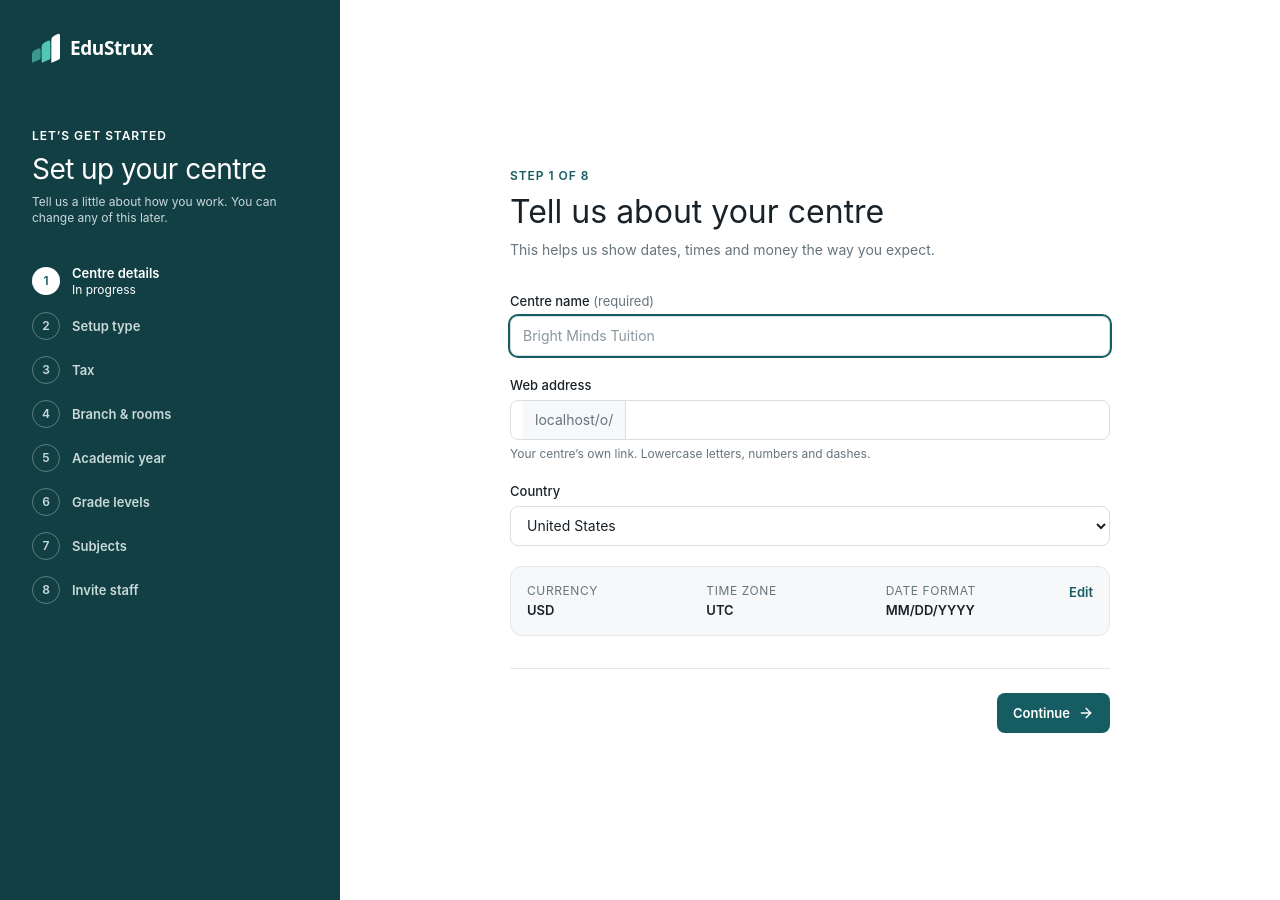
Test: setting up a centre › needs a name before the second step
The image size is (1280, 900).
Type "A" into the field labelled "Centre name (required)" at (810, 336), box top-left (510, 316), bottom-right (1110, 356)
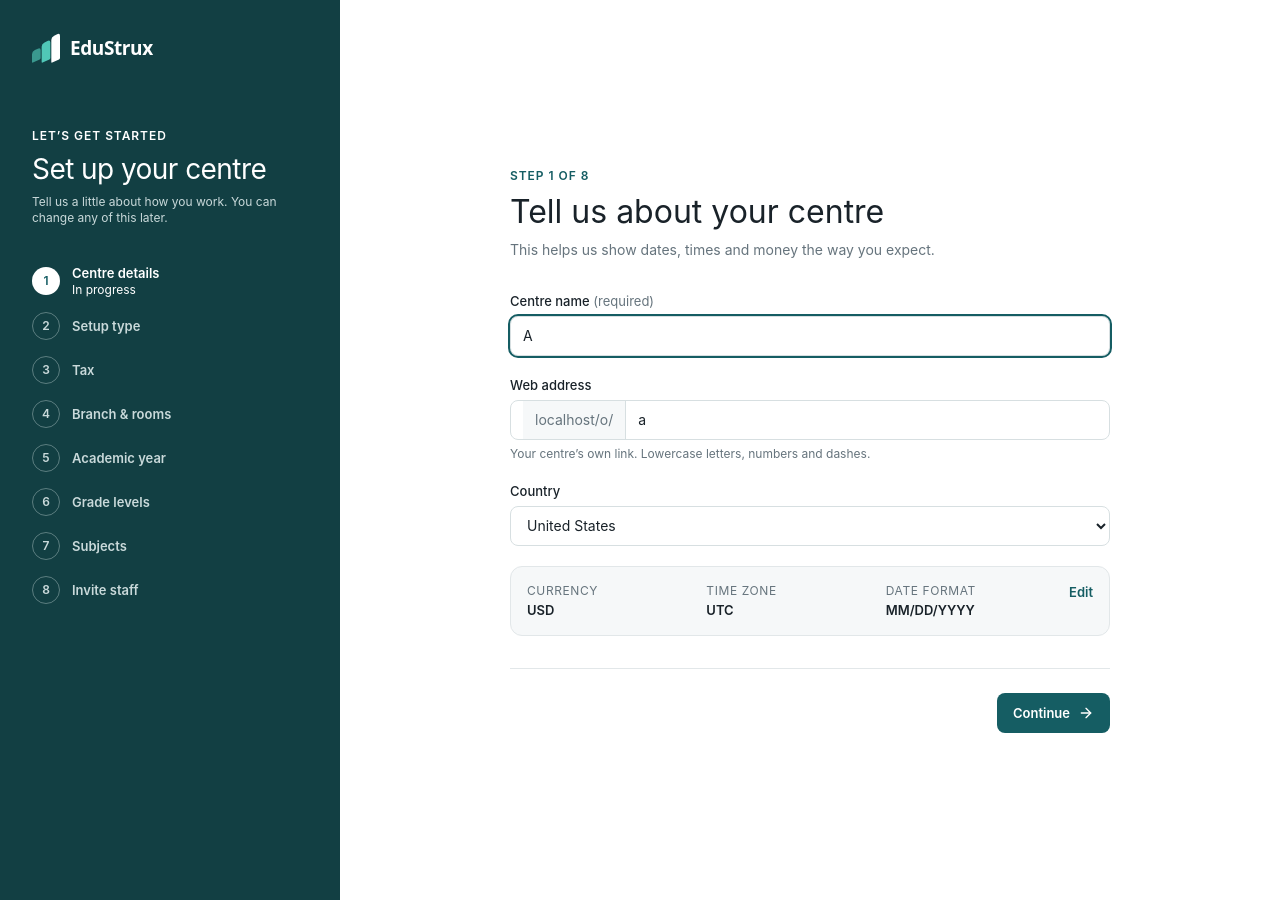
Click the button "Continue" at (1054, 712), box top-left (997, 692), bottom-right (1110, 732)
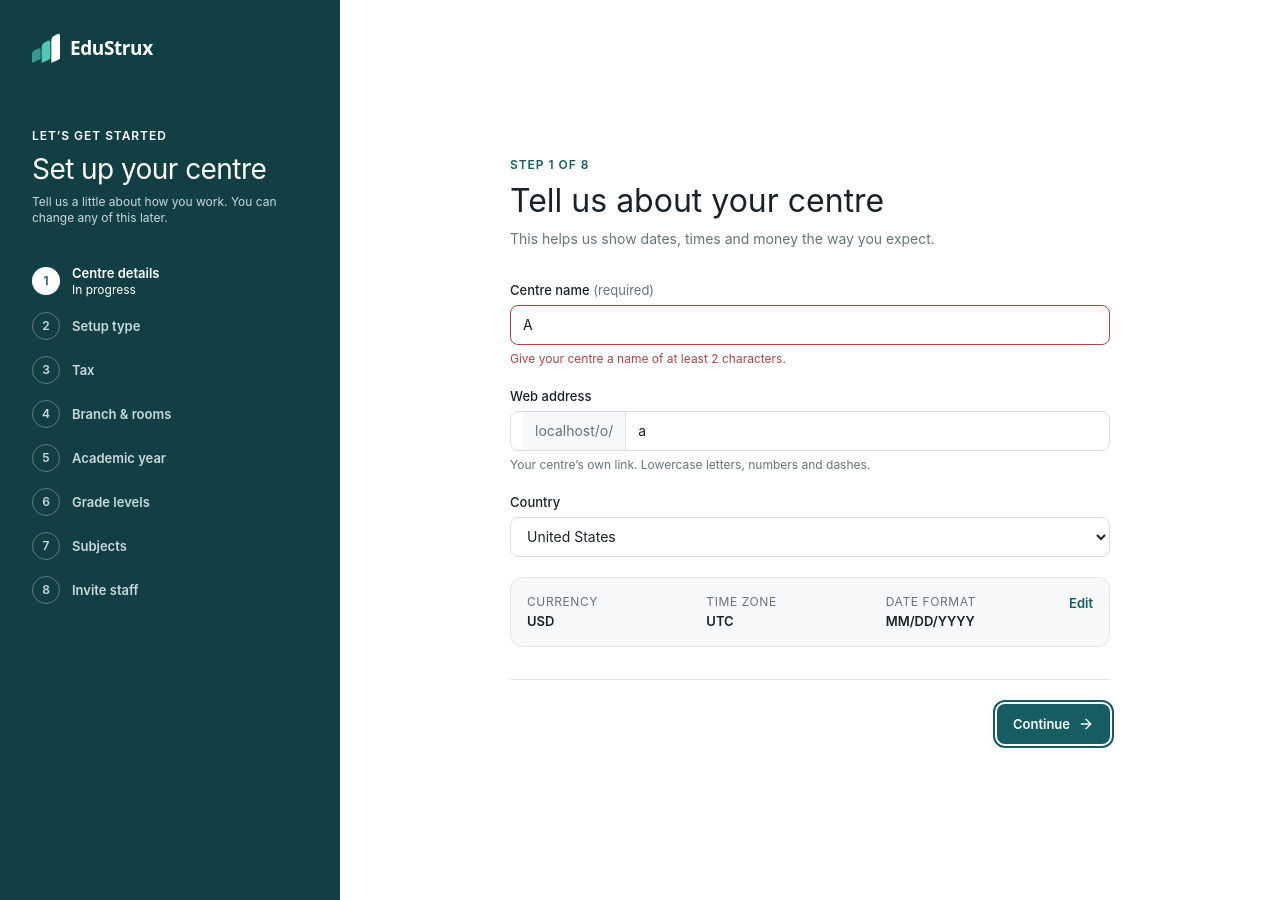
Expected: the text "Give your centre a name of at least 2 characters." is shown, top-left (510, 350), bottom-right (786, 366)
